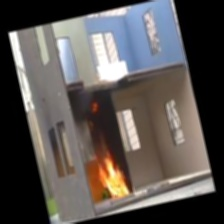fire: (89, 134, 137, 209)
